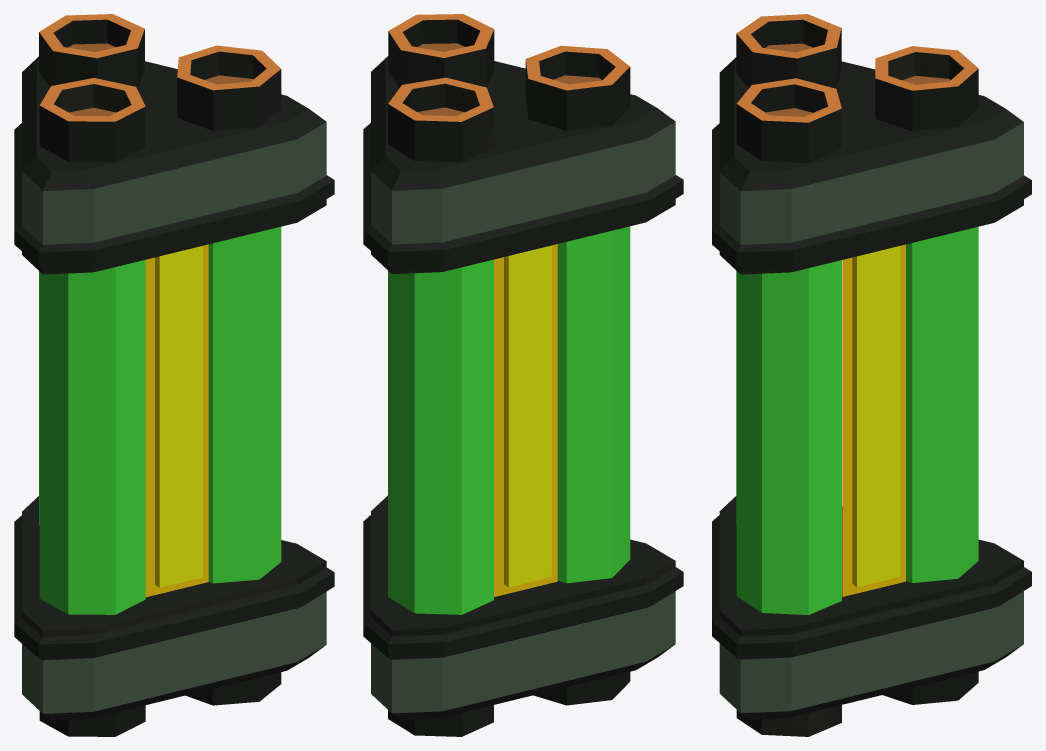
File: bateria.glb
The picture shows the model from 3 angles, left to right: view 1: azimuth 30°, elevation 25°; view 2: azimuth 150°, elevation 25°; view 3: azimuth 270°, elevation 25°; orthographic projection.
Visible parts, largest first — view 1: Cylinder.002; view 2: Cylinder.002; view 3: Cylinder.002.
Part boxes in pixels (bbox=[...]): Cylinder.002: bbox=[14, 14, 334, 736]; Cylinder.002: bbox=[363, 14, 683, 736]; Cylinder.002: bbox=[712, 14, 1031, 736].
Bounding box in the file's own units: 2.62 × 5.21 × 2.46.
Materials: 1 (1 with a texture image).
